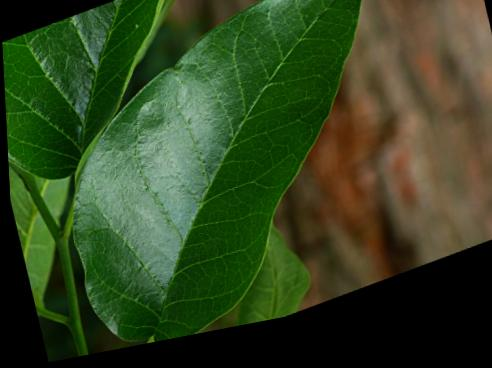Healthy Citrus: (28, 0, 486, 364), (1, 0, 189, 191), (216, 229, 317, 337)
